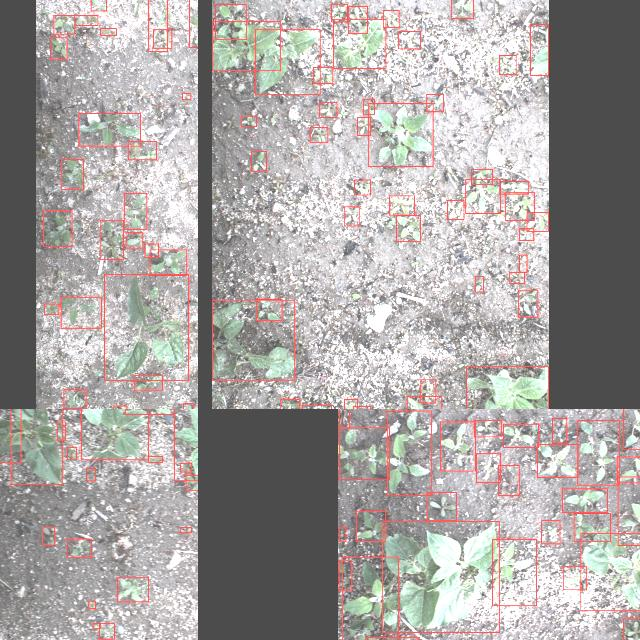crop: (382, 522, 498, 632), (104, 274, 188, 380), (212, 300, 294, 380), (342, 557, 398, 640), (581, 533, 640, 611), (254, 30, 320, 94), (10, 409, 61, 484), (466, 366, 548, 409), (81, 409, 149, 460), (212, 21, 280, 70), (492, 538, 536, 606), (332, 19, 386, 69), (173, 409, 198, 480), (0, 409, 20, 462), (531, 24, 549, 76)
weed: (368, 104, 434, 166), (386, 410, 432, 496), (578, 420, 620, 486), (339, 428, 389, 480), (78, 114, 140, 146), (440, 422, 476, 471), (617, 476, 640, 545), (538, 444, 578, 478), (61, 298, 101, 328), (466, 179, 500, 213), (214, 5, 246, 40), (562, 489, 608, 513), (42, 211, 72, 247), (574, 514, 610, 542), (148, 0, 167, 52), (150, 250, 187, 276), (99, 220, 123, 260), (355, 511, 385, 542), (426, 493, 456, 521), (504, 424, 538, 448), (124, 193, 146, 229), (506, 192, 534, 220), (118, 578, 148, 602), (476, 453, 500, 482), (623, 409, 640, 449), (61, 159, 83, 189), (498, 466, 520, 496), (396, 215, 420, 241), (617, 457, 640, 483), (563, 566, 587, 590), (256, 299, 282, 321), (128, 140, 156, 160), (348, 6, 368, 34), (518, 290, 538, 316), (474, 419, 502, 436), (406, 396, 441, 409), (390, 196, 414, 214), (67, 539, 91, 557), (542, 520, 560, 544), (338, 560, 352, 590), (63, 389, 85, 408), (552, 418, 568, 444), (528, 212, 548, 232), (452, 0, 474, 18), (398, 31, 420, 49), (134, 376, 162, 390), (54, 16, 74, 34), (420, 380, 436, 402), (499, 182, 528, 194), (153, 30, 171, 48), (50, 38, 66, 58), (250, 151, 266, 171), (448, 200, 464, 220), (313, 67, 333, 83), (499, 56, 516, 74), (426, 95, 444, 112), (383, 10, 399, 28), (331, 4, 347, 22), (472, 170, 492, 184), (319, 102, 336, 118), (344, 207, 358, 226), (126, 232, 142, 248), (310, 128, 328, 142), (74, 15, 98, 25), (354, 180, 370, 194), (358, 117, 370, 135), (280, 398, 299, 409), (41, 528, 54, 544), (144, 244, 158, 258), (100, 624, 114, 638), (186, 475, 198, 491), (339, 409, 349, 428), (510, 272, 524, 284), (520, 229, 534, 241), (90, 0, 105, 11), (474, 276, 484, 292), (240, 116, 256, 126), (302, 404, 331, 409), (57, 422, 65, 440), (44, 304, 58, 314), (364, 100, 374, 114), (519, 255, 527, 272), (344, 399, 357, 409), (100, 28, 116, 36), (86, 468, 95, 480), (180, 463, 192, 472), (68, 447, 76, 459), (148, 456, 162, 462), (339, 527, 345, 541), (183, 403, 193, 409), (113, 405, 126, 409), (182, 94, 190, 100), (180, 528, 192, 532), (88, 602, 95, 608), (92, 624, 100, 628)
